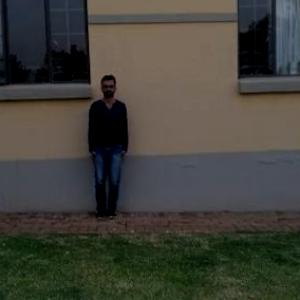follow: (87, 73, 130, 219)
